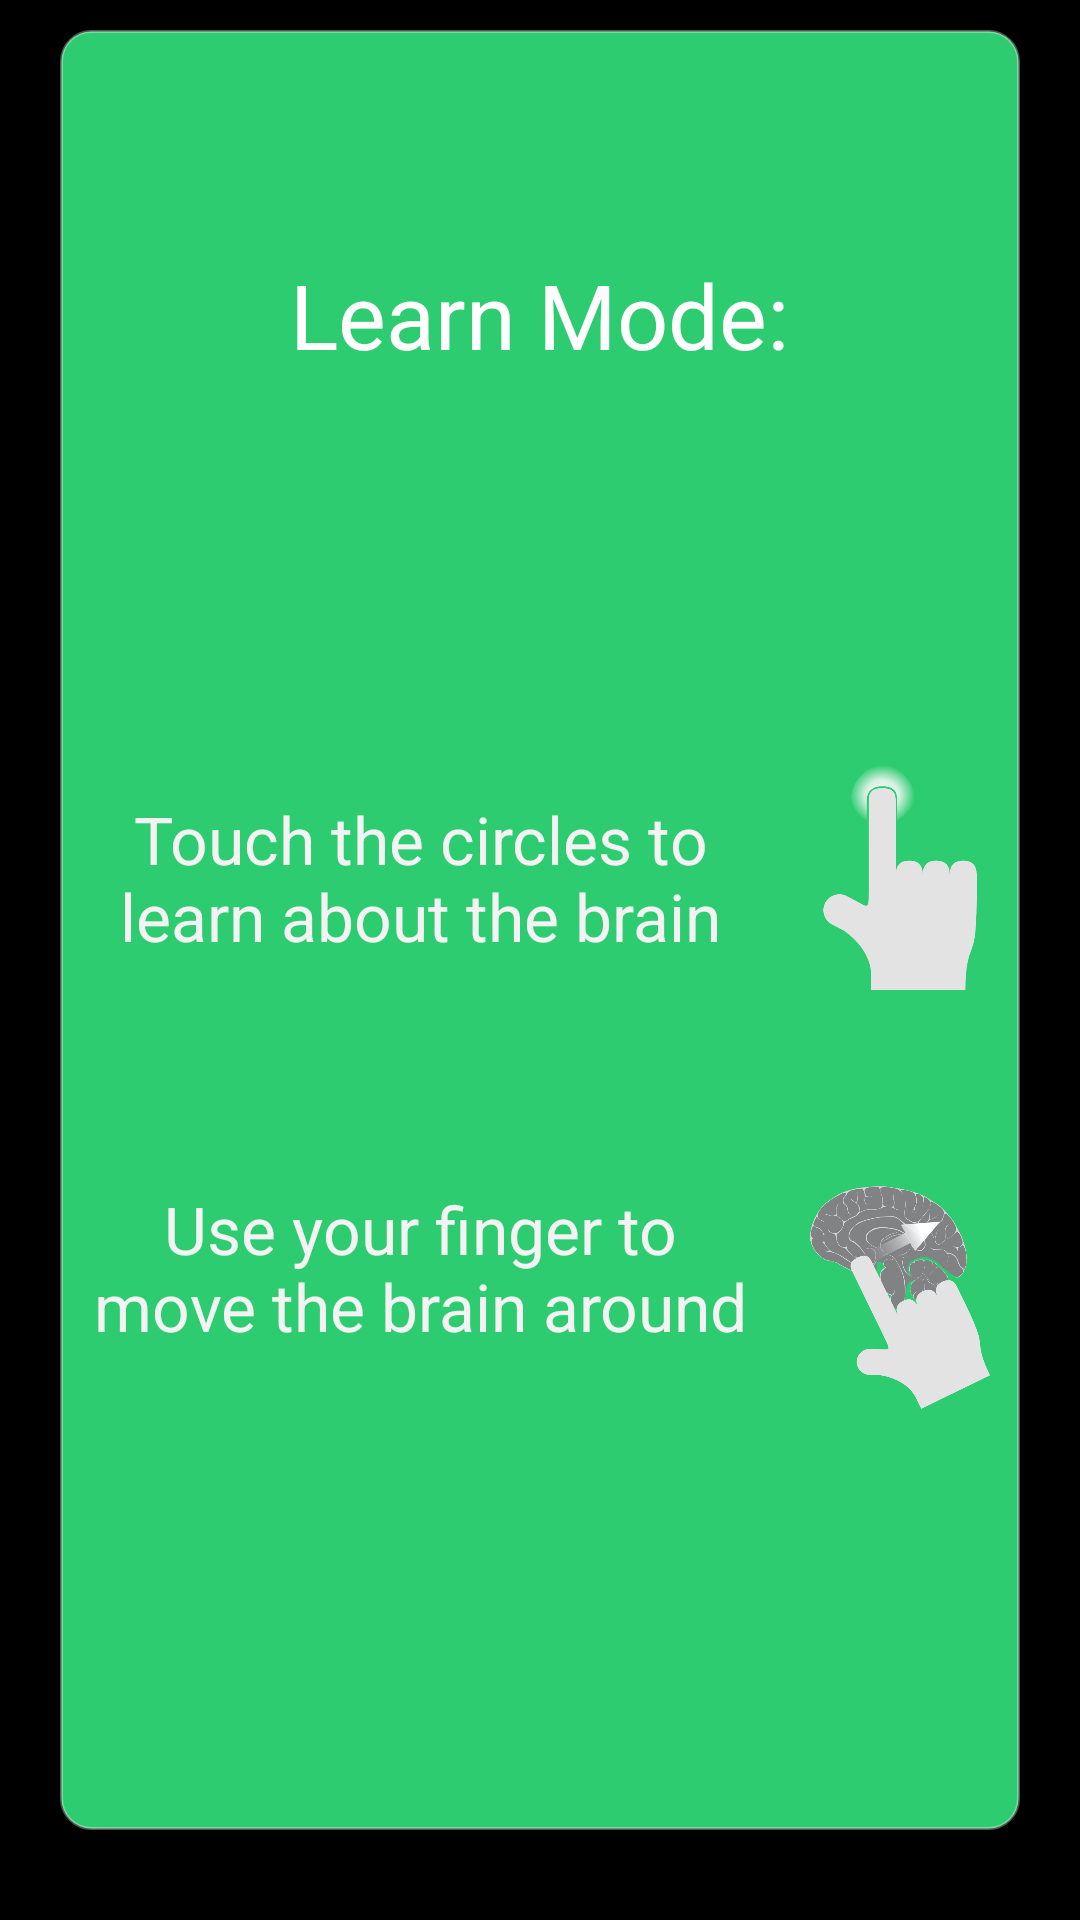

Screen size 1080x1920. Icon name, then its center in pixels as (x=x, y=y):
hand brain: (x=900, y=1297)
hand circle: (x=900, y=878)
